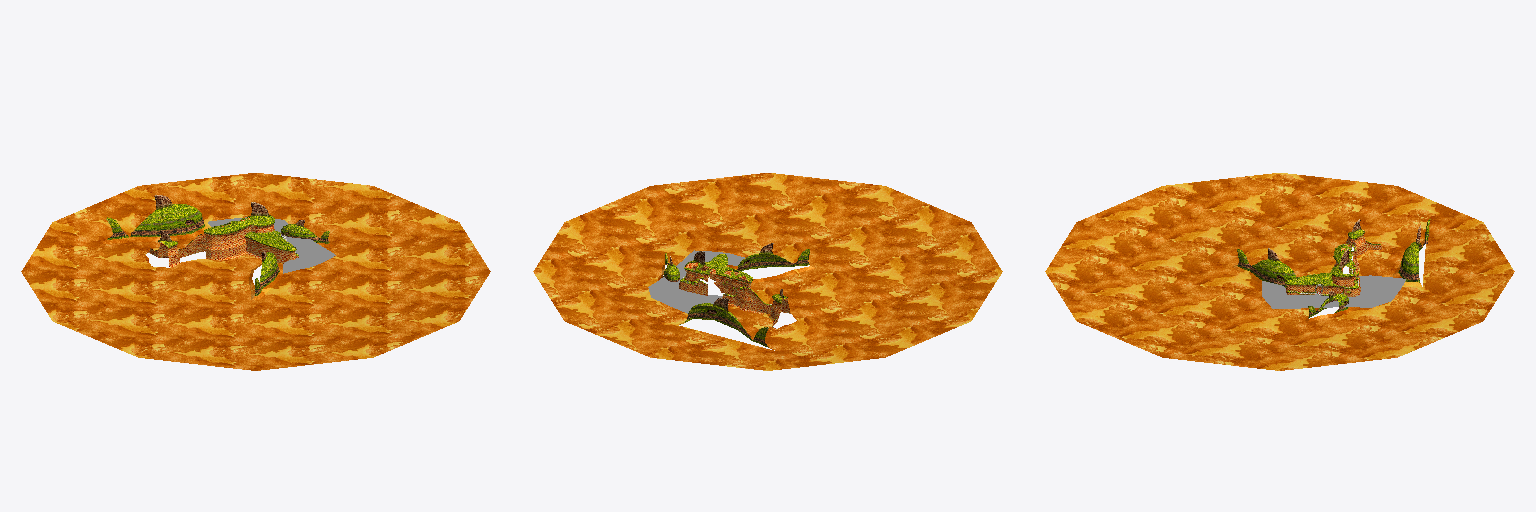
3 renders of one model, left to right at view 1: azimuth 30°, elevation 25°; view 2: azimuth 150°, elevation 25°; view 3: azimuth 270°, elevation 25°, orthographic.
Visible parts, largest first — view 1: obj3, obj2, Object_2; view 2: obj3, obj2; view 3: obj3, obj2.
Part boxes in pixels (bbox=[...]): obj3: bbox=[21, 173, 490, 370]; obj2: bbox=[208, 217, 335, 273]; Object_2: bbox=[101, 222, 332, 300]; obj3: bbox=[533, 173, 1002, 370]; obj2: bbox=[648, 250, 744, 313]; obj3: bbox=[1045, 173, 1514, 370]; obj2: bbox=[1262, 275, 1405, 308].
Bounding box in the file's own units: 18000 × 1838 × 18000.
29 materials, 15 textured.